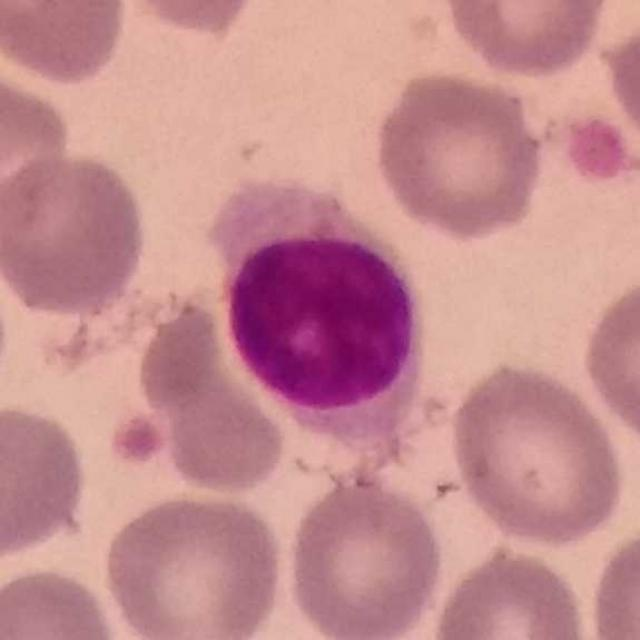Lymphocyte: (198, 171, 438, 457)
Platelets: (558, 121, 634, 190), (100, 416, 168, 474)
RBC: (444, 357, 630, 551), (130, 292, 292, 498), (370, 66, 548, 242), (98, 486, 288, 640), (282, 471, 448, 640), (0, 146, 150, 318), (428, 543, 594, 640), (0, 398, 93, 568), (438, 0, 613, 81), (0, 61, 77, 237), (0, 0, 132, 88), (577, 272, 640, 454), (0, 562, 122, 640), (597, 7, 640, 173), (584, 515, 640, 640), (109, 0, 264, 38), (0, 242, 14, 415)
